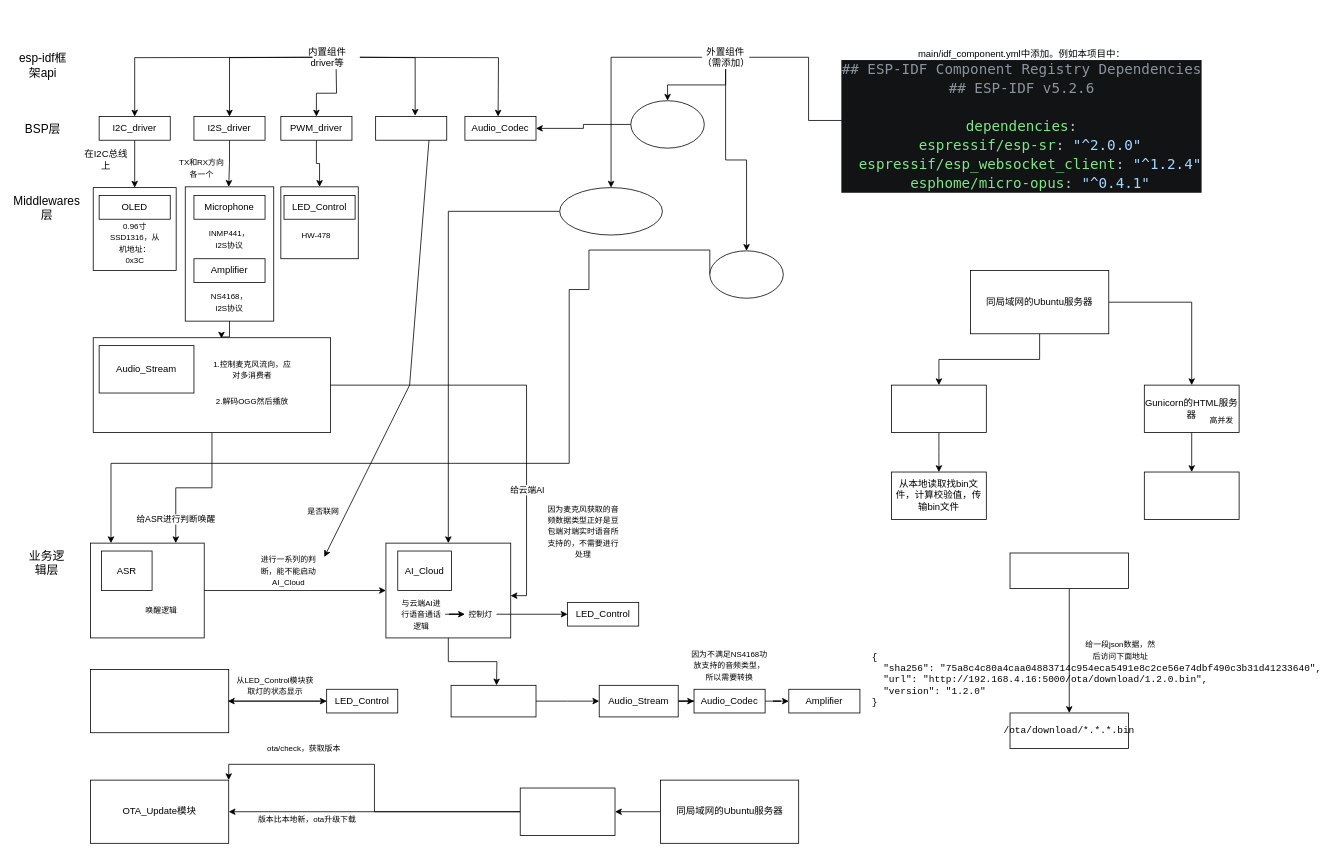
The diagram is 1335 pixels wide and 857 high, and some of its shapes have lost their labels. The shapes that lost their labels are listed below. From the top down, each one's centre as x and y in pixels, then its label:
the point at 411,128: WIFI_Manager
the point at 667,124: micro-opus
the point at 610,211: esp_websocket_client
the point at 746,274: esp-sr
the point at 938,408: python3代码处理
the point at 1191,495: ESP32访问
the point at 1069,570: localhost:5000/ota/check
the point at 159,701: OLED显示处理
the point at 493,701: 返回的语音
the point at 567,811: HTML服务器
